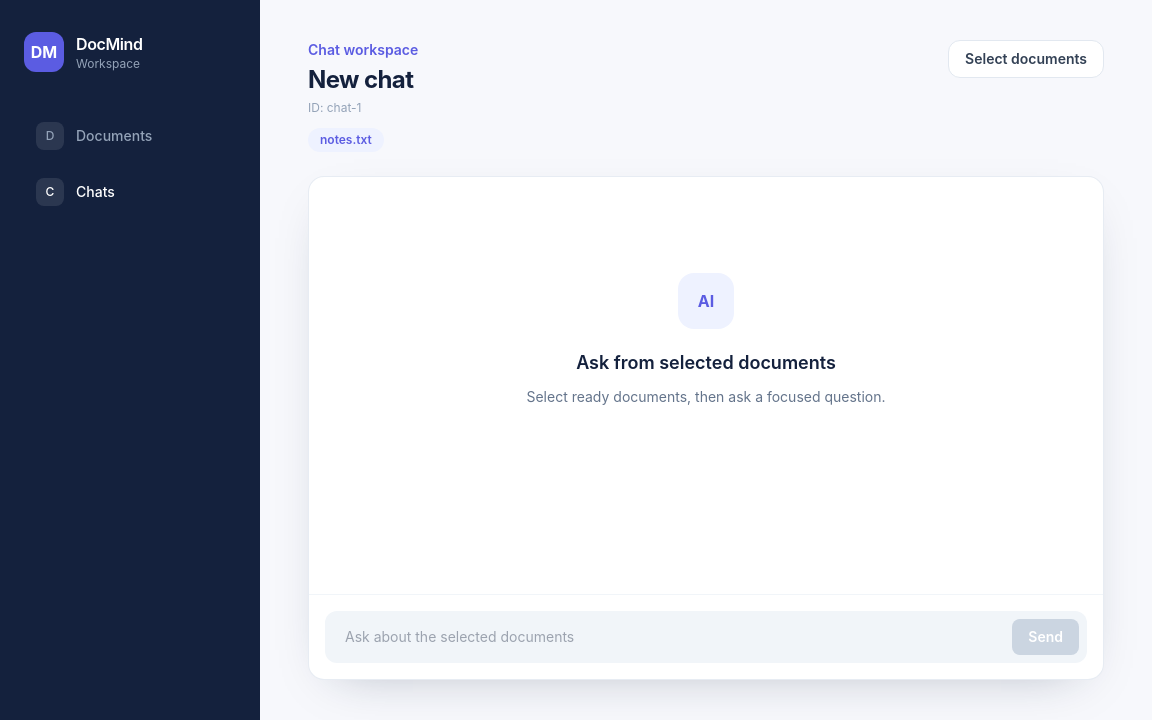
Test case: App › enables send with selected documents and renders streamed tokens with sources
This screenshot has width=1152, height=720.
Type "What is inside?" into the field with placeholder "Ask about the selected documents" at (667, 637), box [333, 619, 1000, 655]
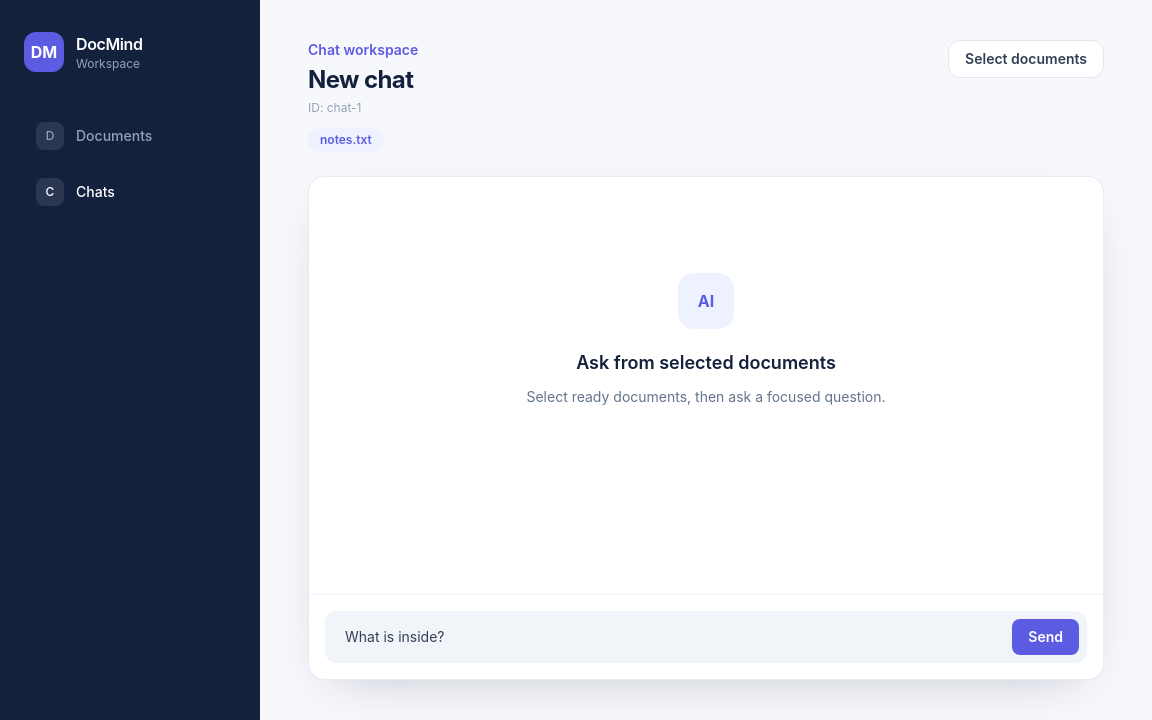
expect the button "Send" is enabled: met
Click the button "Send" at (1046, 637), box [1012, 619, 1079, 655]
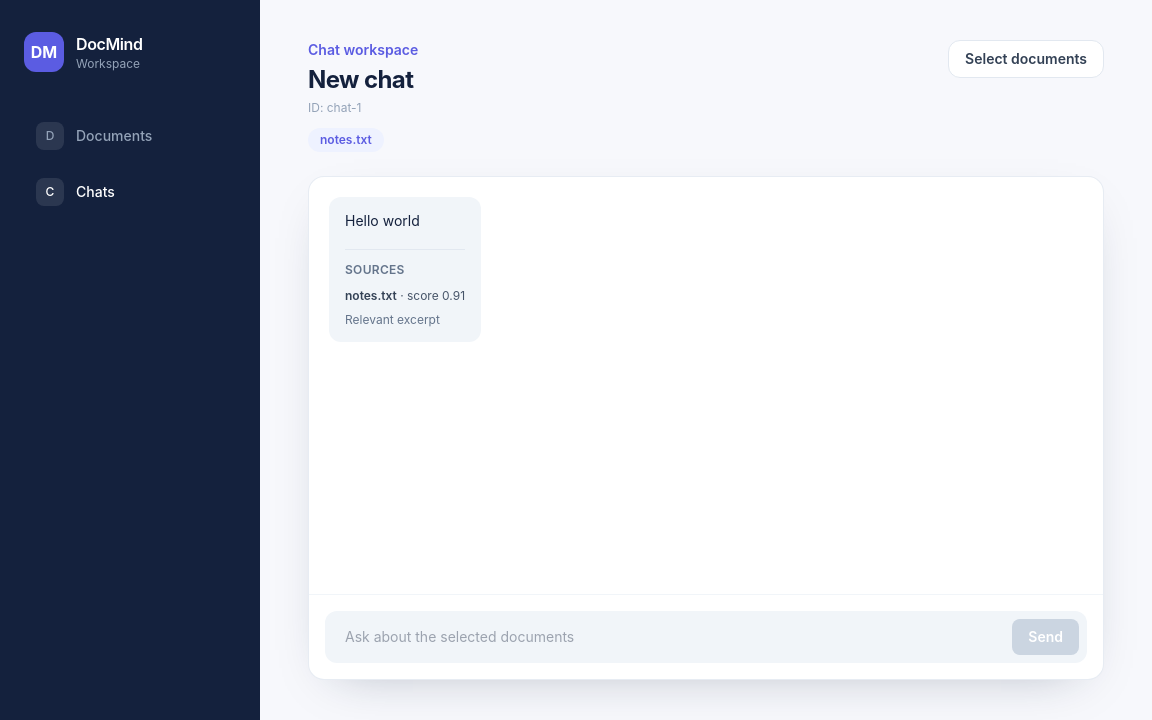
expect the text "Hello world" is shown: met, box [345, 212, 420, 229]
expect the text "Relevant excerpt" is shown: met, box [345, 312, 440, 327]
